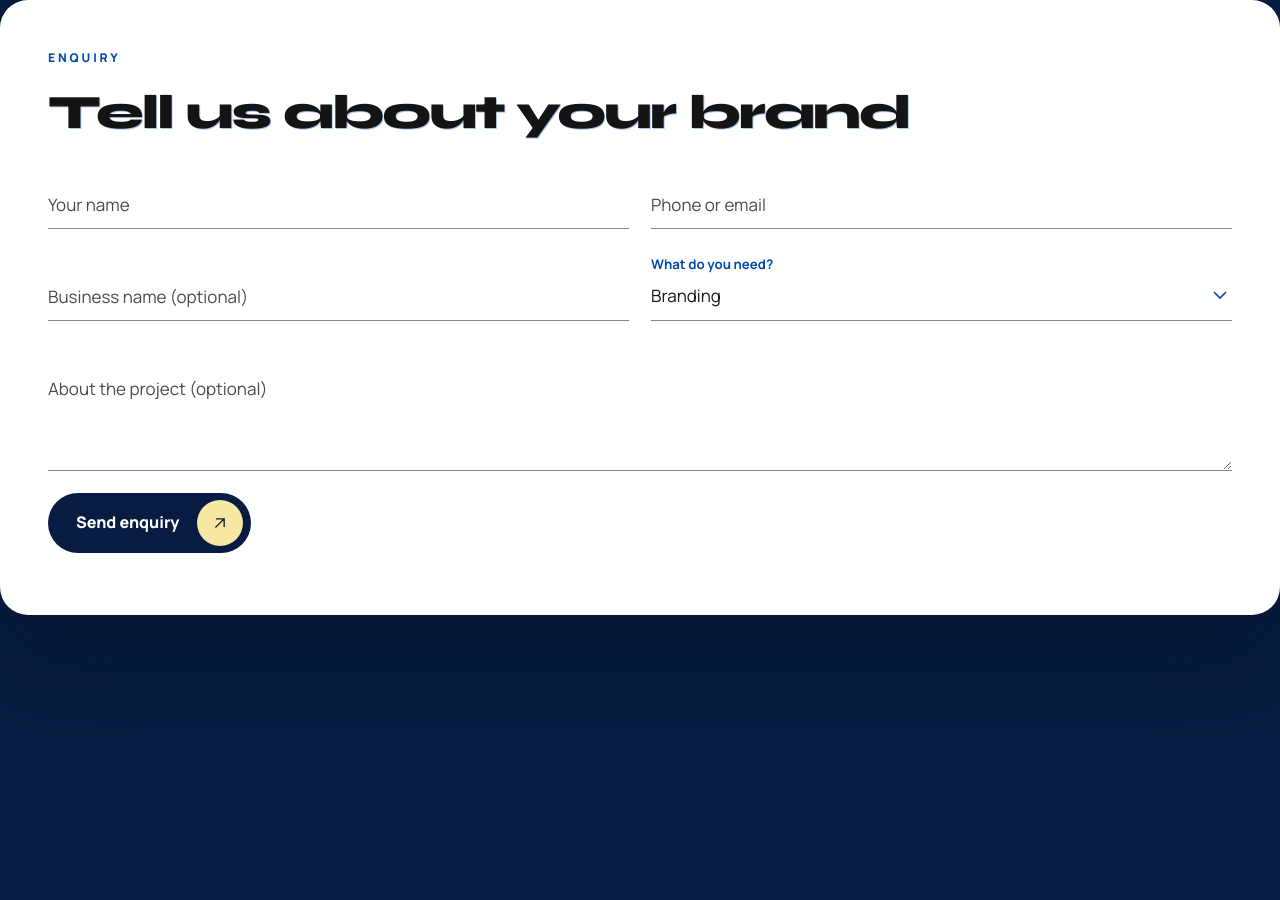
Test: EnquiryForm › falls back to the email app when online delivery is not set up
Type "Asha" into the field labelled "Your name" at (338, 203), box [48,177,629,229]
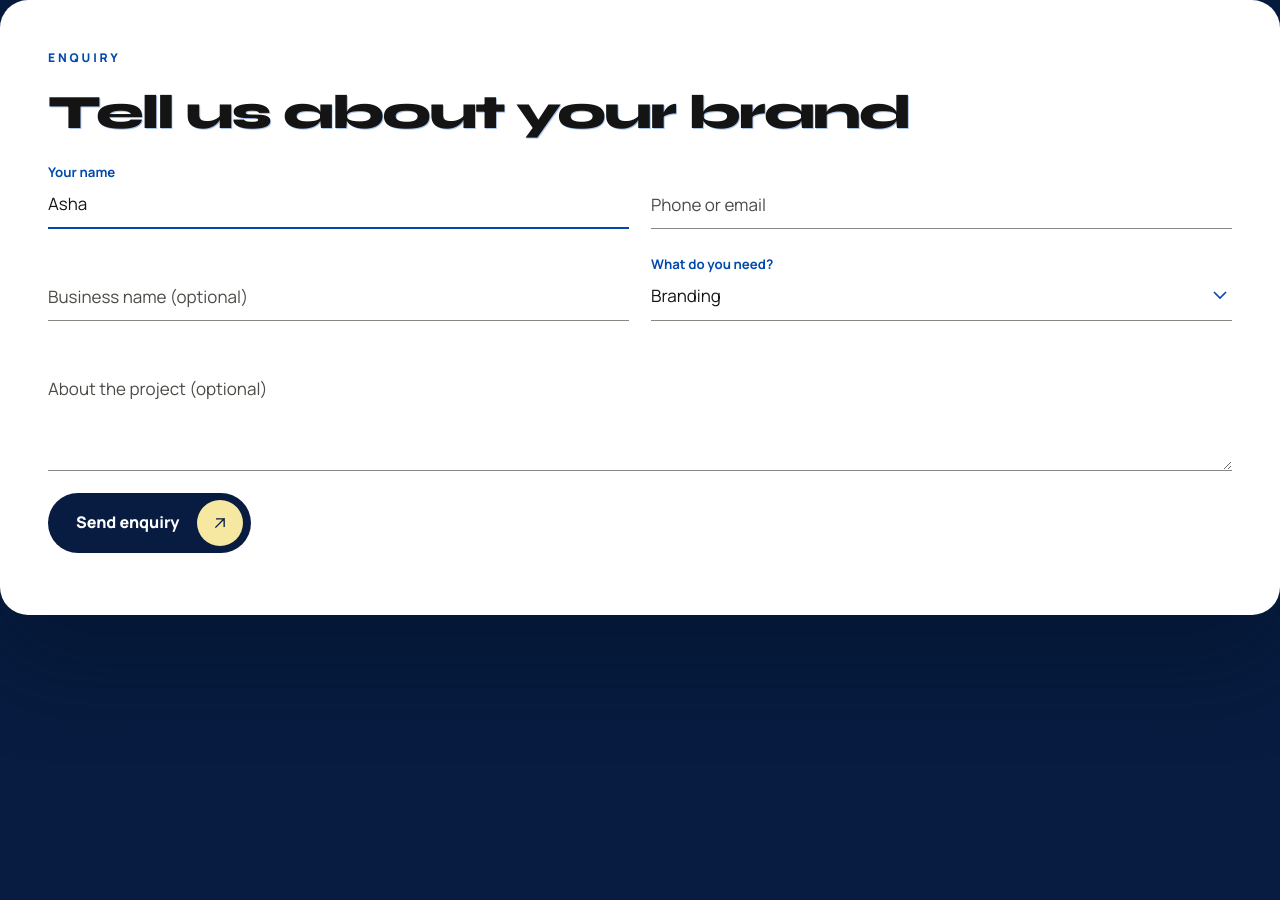
Type "asha@example.com" into the field labelled "Phone or email" at (942, 203), box [651,177,1232,229]
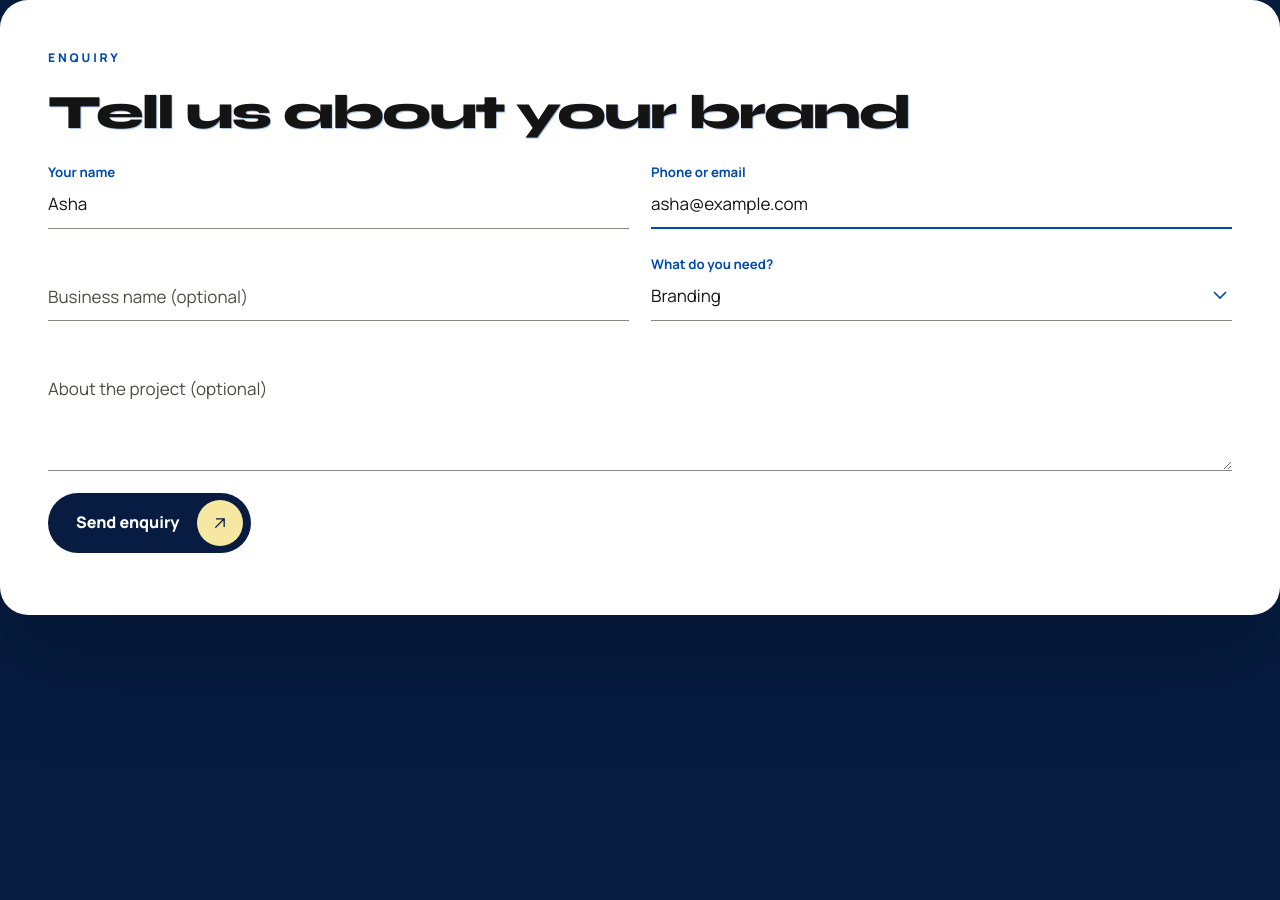
Select "Website Development" in the dropdown labelled "What do you need?" at (942, 295), box [651,269,1232,321]
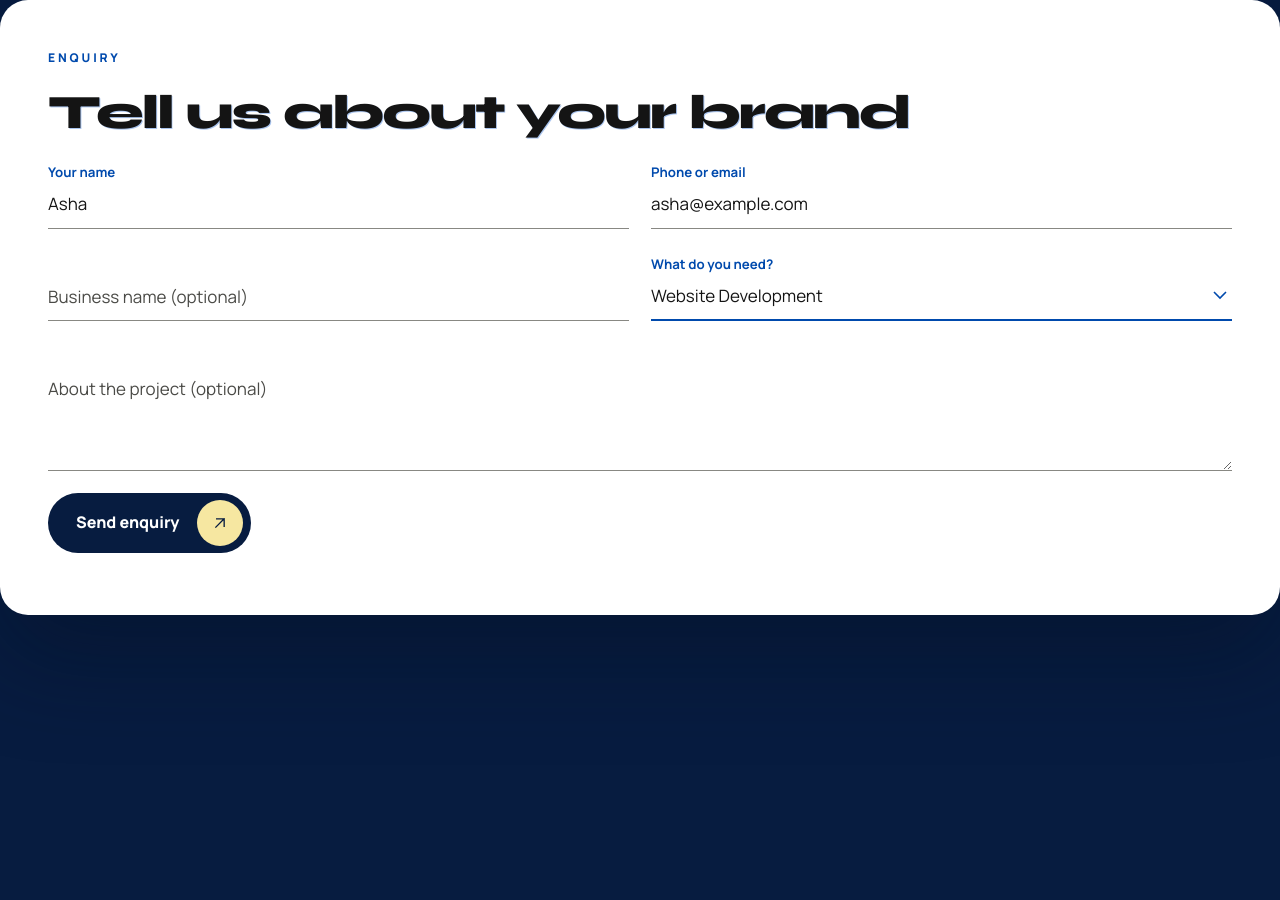
Click the button "Send enquiry" at (150, 523), box [48,493,251,553]
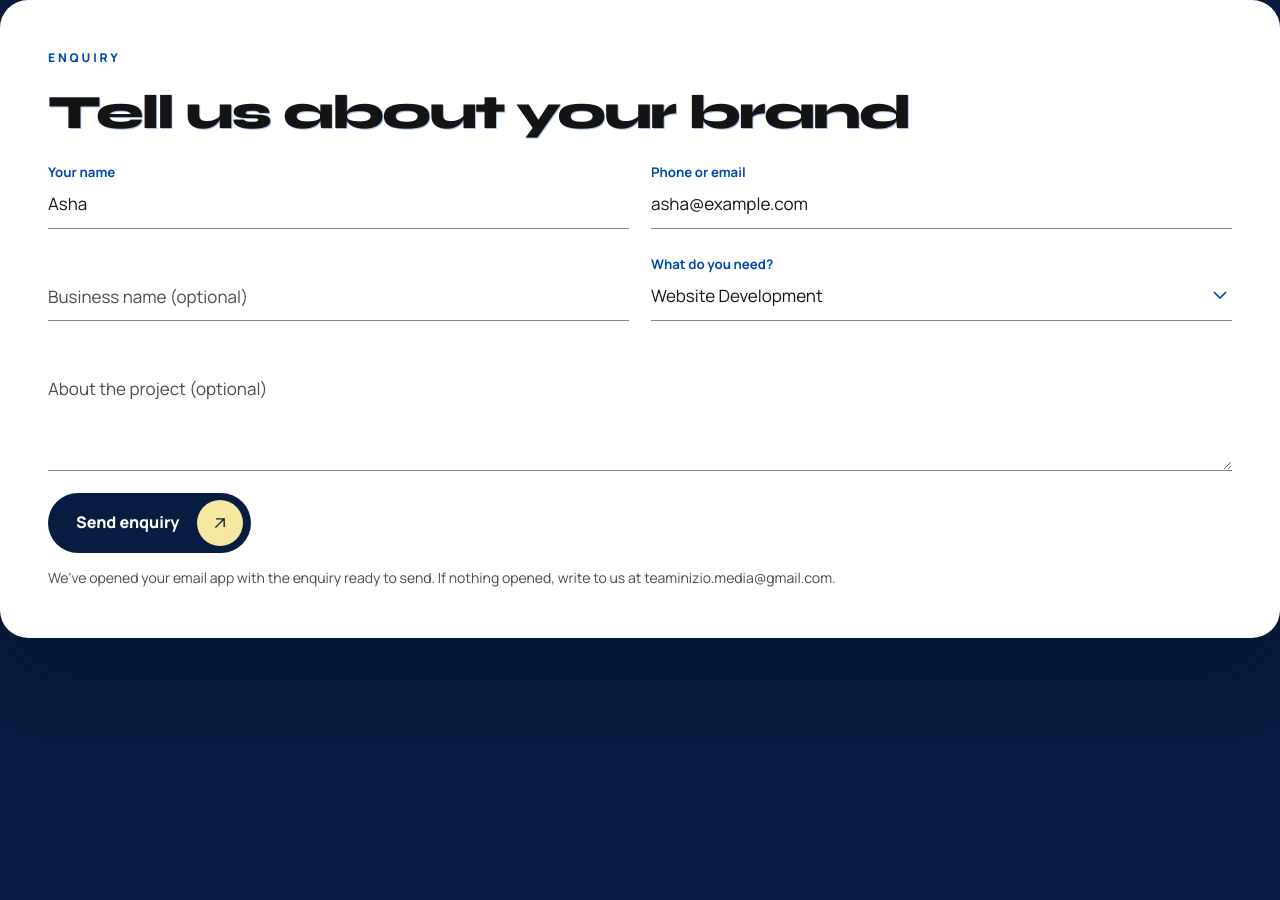
expect the text "opened your email app" is shown: met, box [48,568,836,587]
